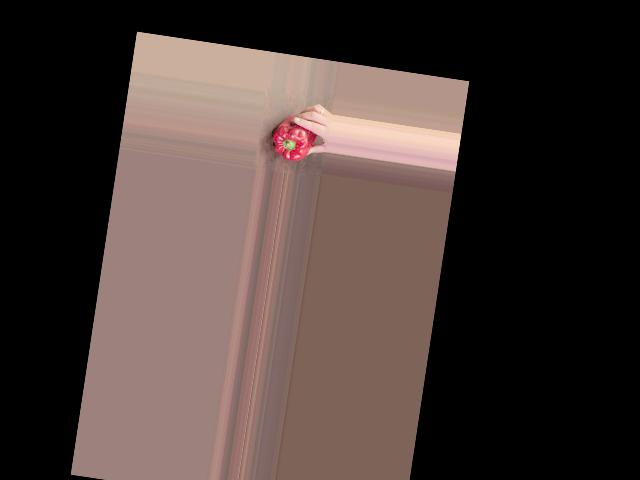bell_pepper: (269, 115, 316, 165)
